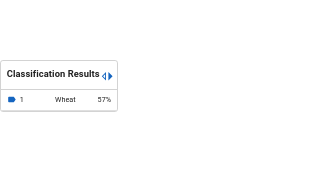
it: ResultsTable › score formatting in top results › formats a normal score with two decimal places
Step 1. Click the row → x=59, y=100, box 1,90 -> 117,110
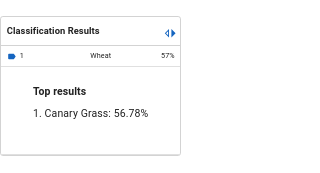
Now the text "1. Canary Grass: 56.78%" is shown, box 33,105 -> 148,122
